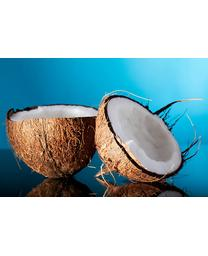coconut: (94, 95, 185, 183), (7, 102, 102, 177)
